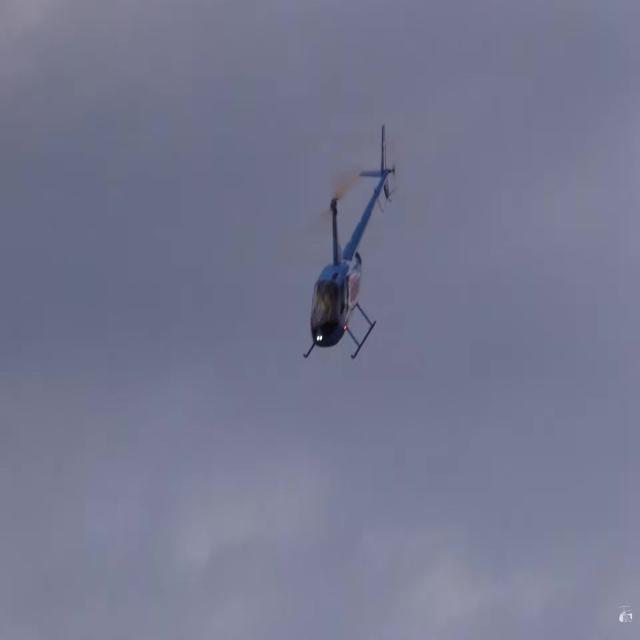CIV_HELO: (302, 120, 396, 364)
